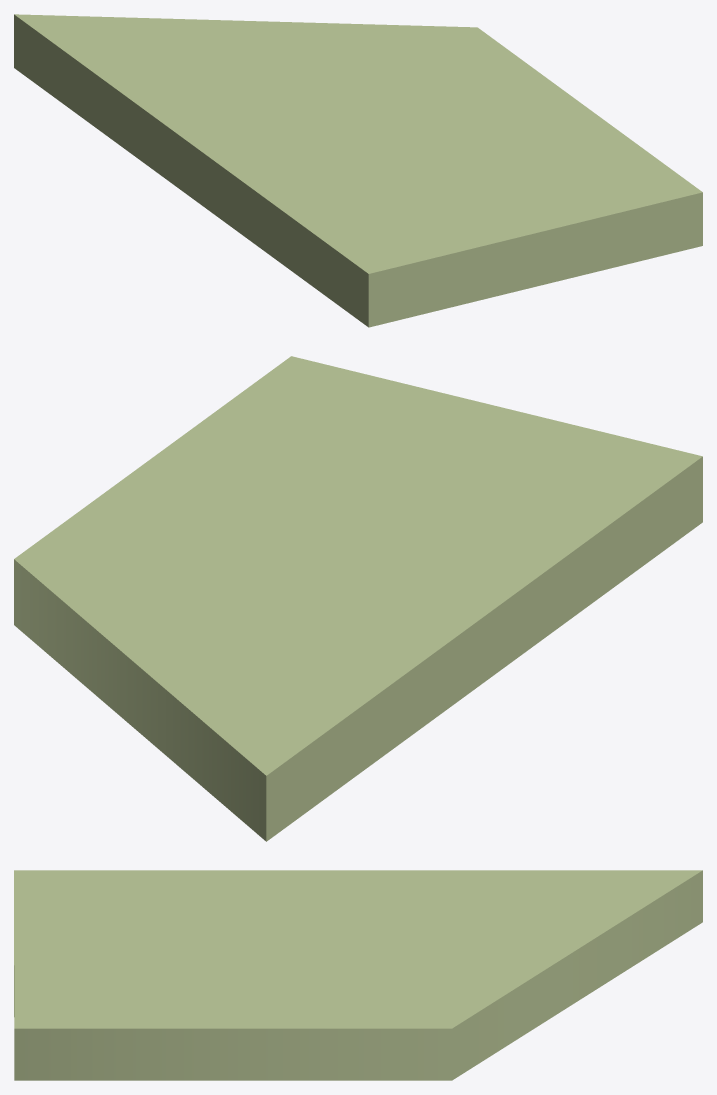
Rendered from ground_2.gltf.
3 renders of one model, top to bottom at view 1: azimuth 30°, elevation 25°; view 2: azimuth 150°, elevation 25°; view 3: azimuth 270°, elevation 25°, orthographic. The views are drawn at different scales.
Visible parts, largest first — view 1: o_ground_2; view 2: o_ground_2; view 3: o_ground_2.
Part boxes in pixels (x1,y1,x2,y2): o_ground_2: (14, 14, 702, 327); o_ground_2: (14, 356, 702, 841); o_ground_2: (14, 870, 702, 1080).
Size of the model in its own units: 15.92 by 2.44 by 29.25.
